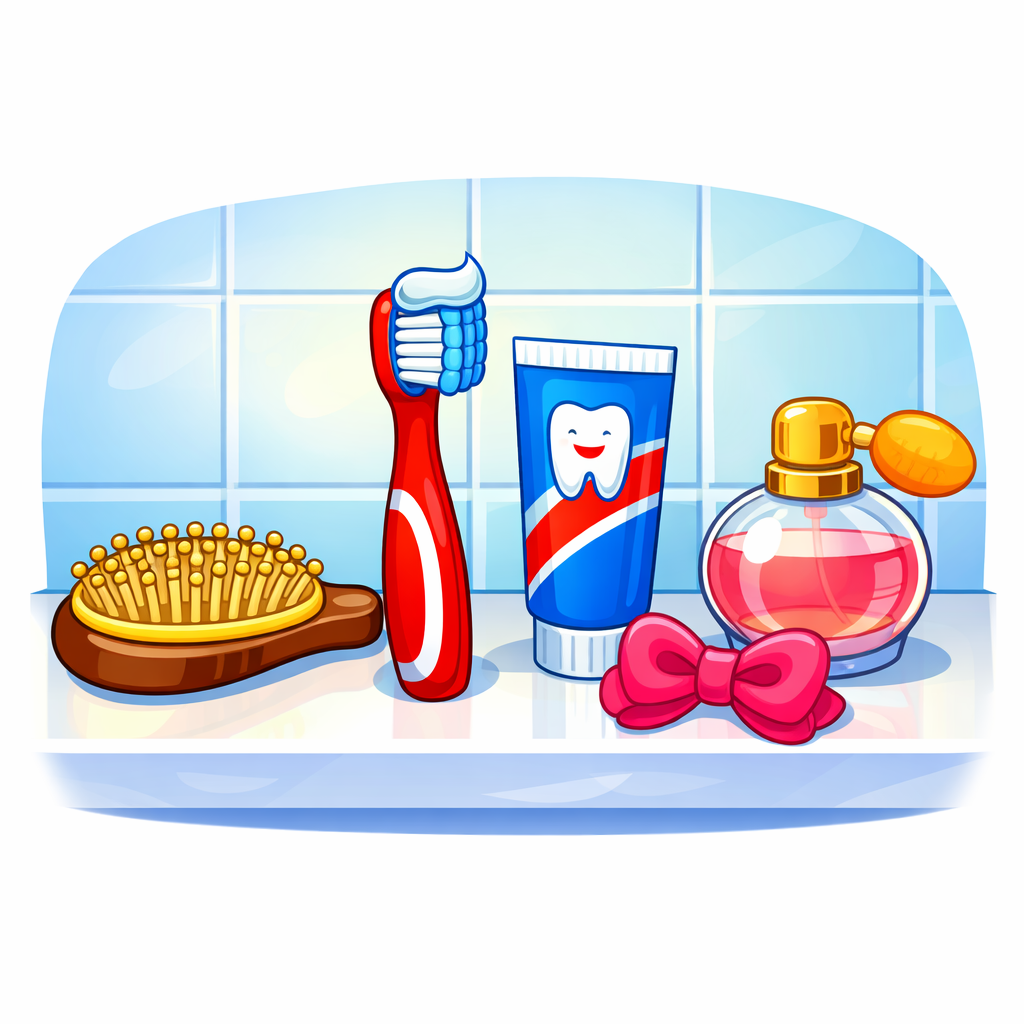Tandeborsel: (259, 173, 584, 730)
